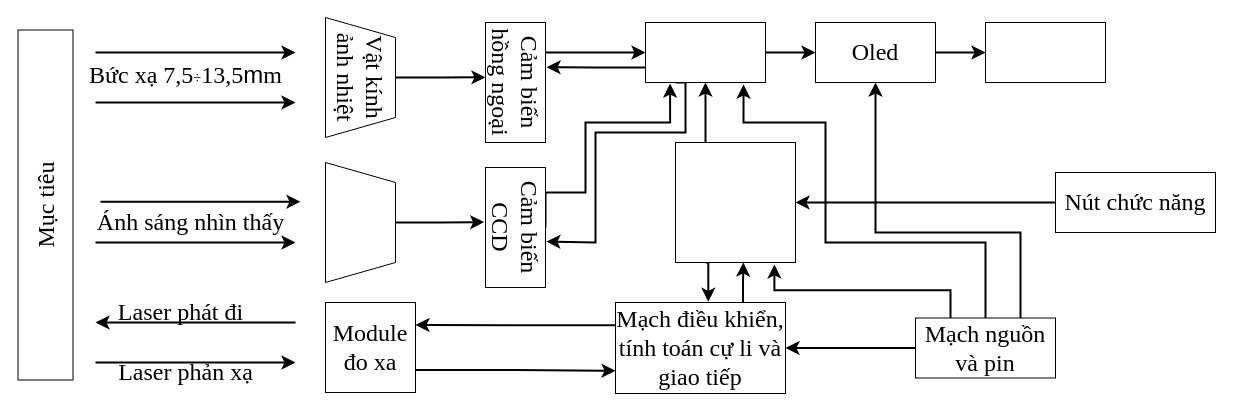
Some shapes in this 1233 by 411 pixel diagram are drawn without their labels. The shapes that lost their labels are listed below. From the top down, each one's centre as x and y in pixels, then its label:
pixel 705 52: Khối xử lý hình ảnh
pixel 1045 52: Kính mắt
pixel 360 222: Vật kính ngày
pixel 735 202: Mạch điều khiển trung tâm
